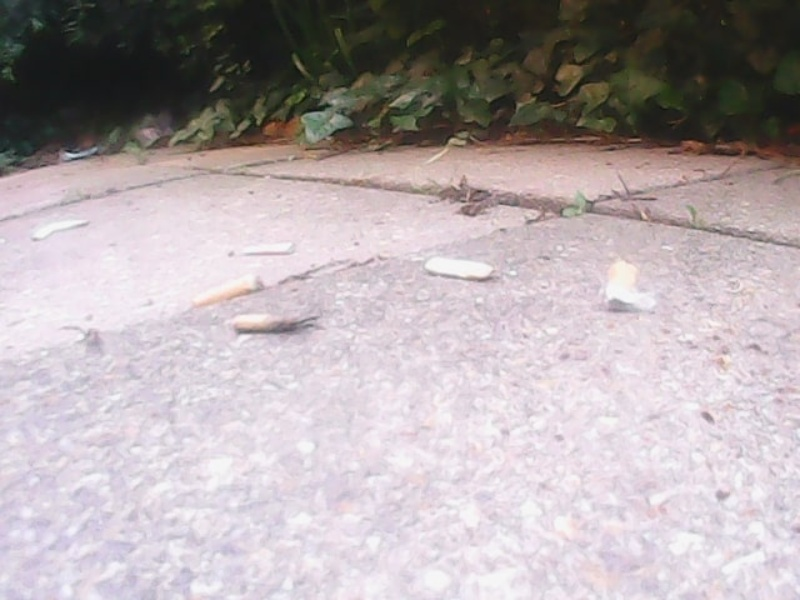cig: (597, 259, 653, 319), (419, 251, 497, 287), (232, 308, 299, 339), (241, 237, 299, 259), (37, 215, 84, 241), (190, 283, 255, 300)
